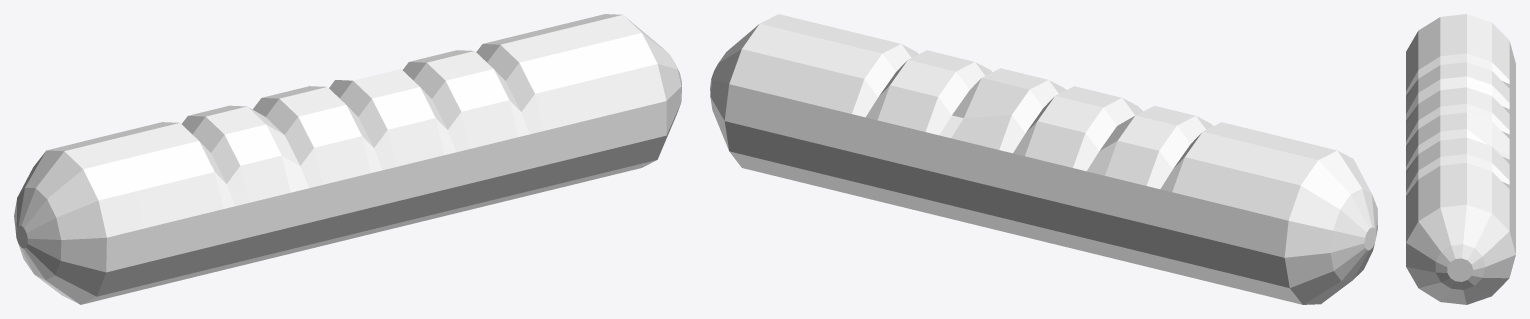
File: SausageRaw.fbx
The picture shows the model from 3 angles, left to right: view 1: azimuth 30°, elevation 25°; view 2: azimuth 150°, elevation 25°; view 3: azimuth 270°, elevation 25°; orthographic projection. The views are drawn at different scales.
Parts seen in each view (by area): view 1: SausageRaw; view 2: SausageRaw; view 3: SausageRaw.
Boxes of the visible parts, x1=… form: SausageRaw: x1=14, y1=14, x2=681, y2=304; SausageRaw: x1=710, y1=14, x2=1377, y2=304; SausageRaw: x1=1406, y1=14, x2=1515, y2=304.
Size of the model in its own units: 246 by 51.92 by 51.49.
